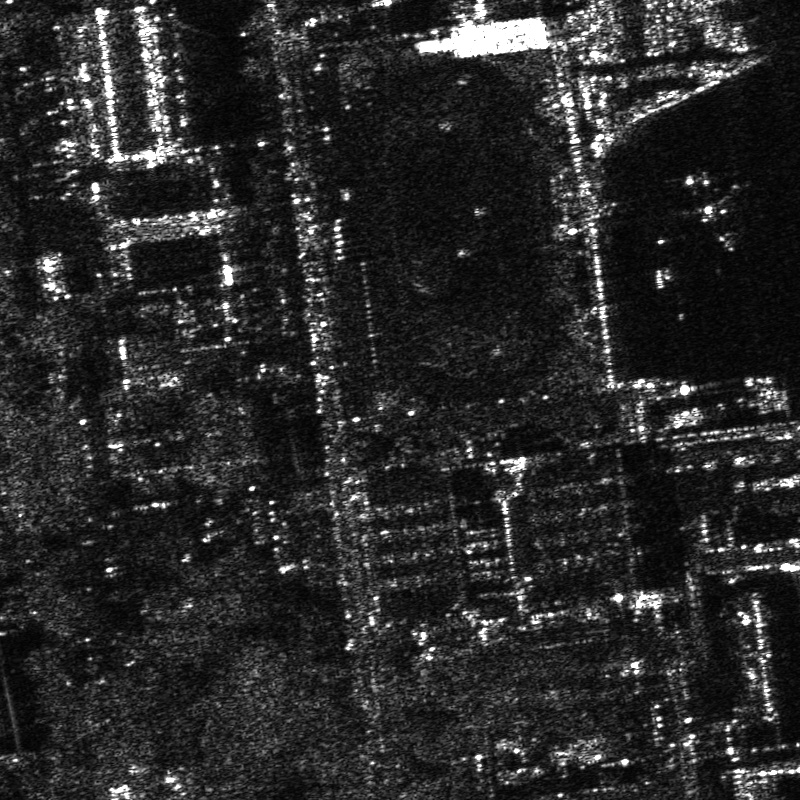Boeing787: (657, 159, 749, 254)
